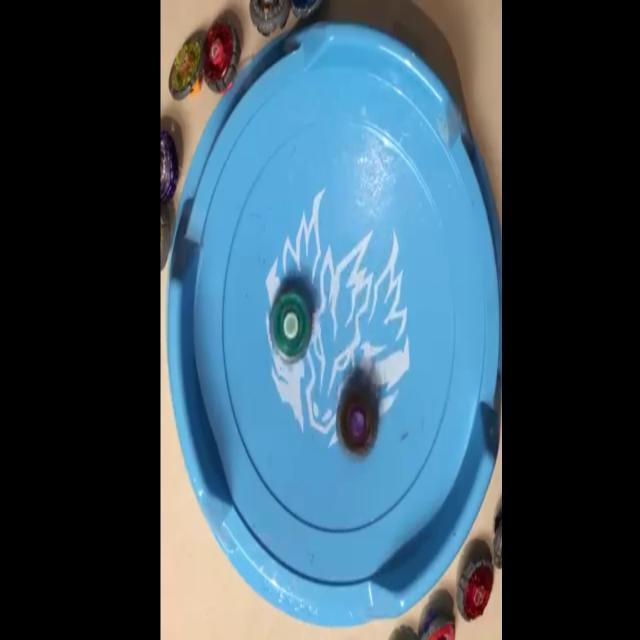Beyblade: (202, 18, 240, 94), (271, 292, 310, 362), (338, 390, 376, 456), (457, 558, 493, 622), (169, 37, 203, 100)
